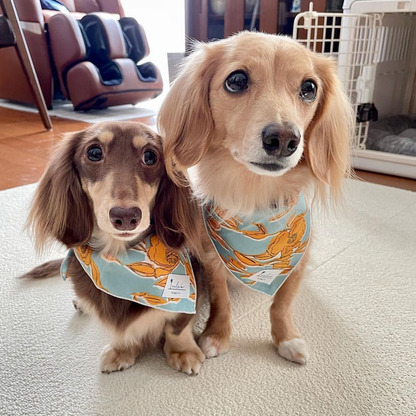dachshund: (162, 24, 362, 336), (36, 101, 200, 377)
